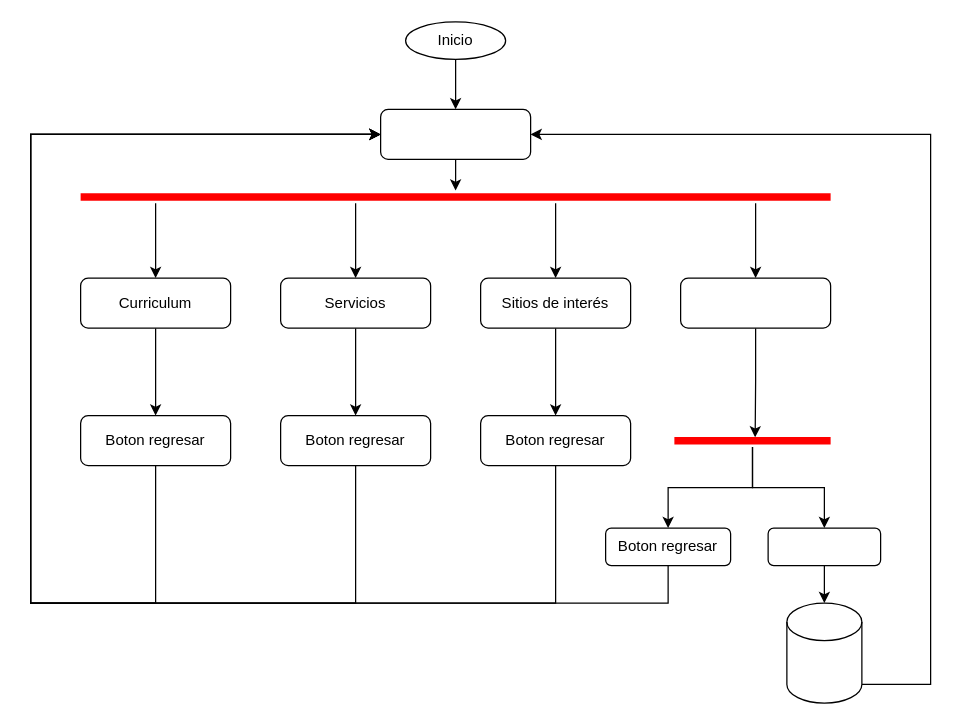
This 963x725 diagram has some shape labels left out. Here are the shapes that lost their labels. From the top down, the centre of each, then its label:
At [455,133]: "Pagina Principal".
At [755,302]: "Contacto".
At [824,546]: "Registrar Datos".
